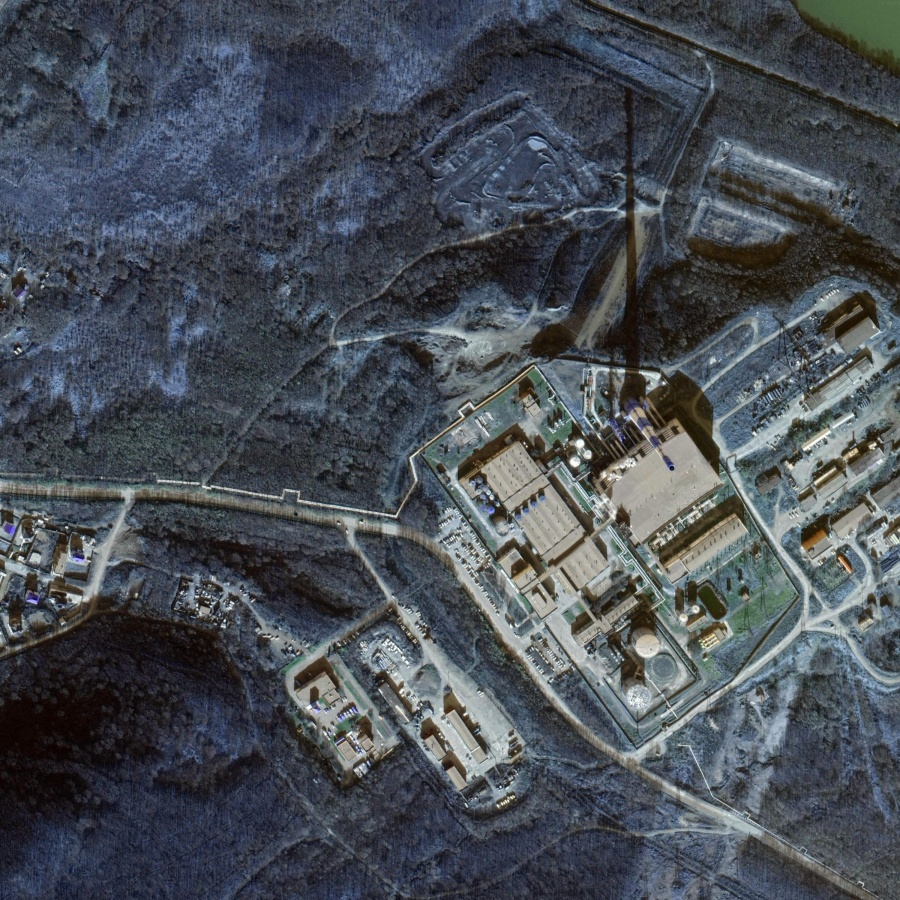PowerPlant: (456, 350, 771, 714)
